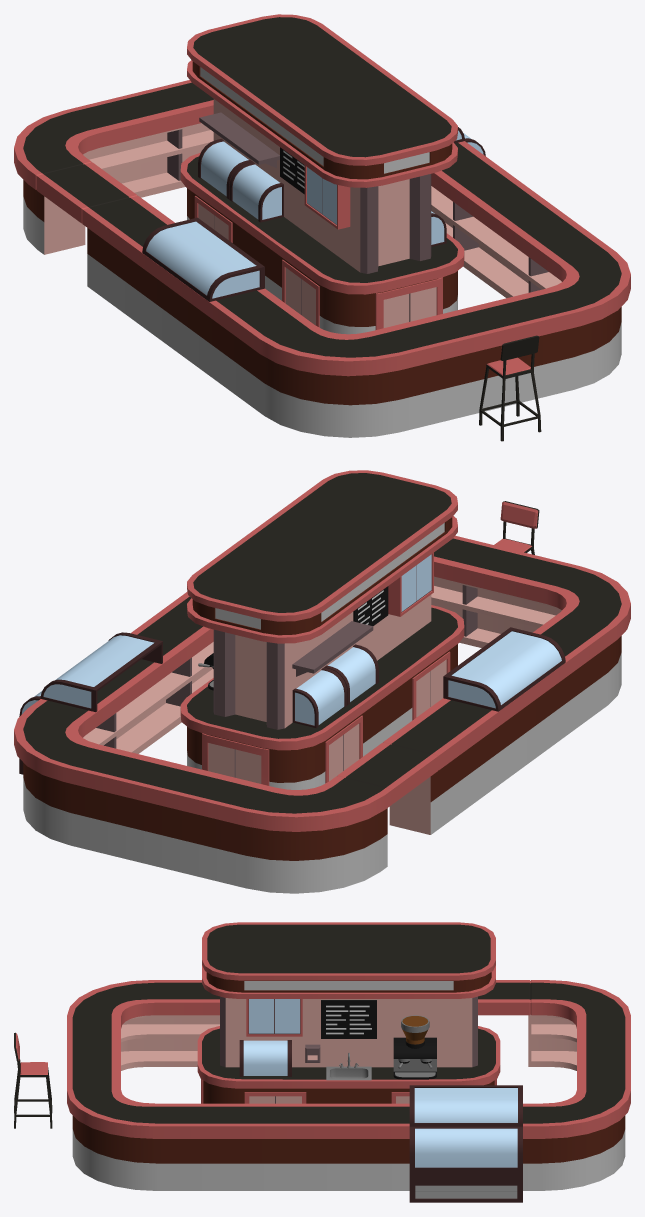
The model's file is 13_Cafe_AIRPORT_0.obj.
The picture shows the model from 3 angles, top to bottom: view 1: azimuth 30°, elevation 25°; view 2: azimuth 150°, elevation 25°; view 3: azimuth 270°, elevation 25°; orthographic projection. The views are drawn at different scales.
Parts seen in each view (by area): view 1: 13.Cafe_AIRPORT_0; view 2: 13.Cafe_AIRPORT_0; view 3: 13.Cafe_AIRPORT_0.
Boxes of the visible parts, x1,y1,x2,y2 form: 13.Cafe_AIRPORT_0: (14, 14, 630, 441); 13.Cafe_AIRPORT_0: (14, 470, 630, 893); 13.Cafe_AIRPORT_0: (14, 922, 630, 1202).
Size of the model in its own units: 6.91 by 3.56 by 11.6.
Materials: 1 (1 with a texture image).
